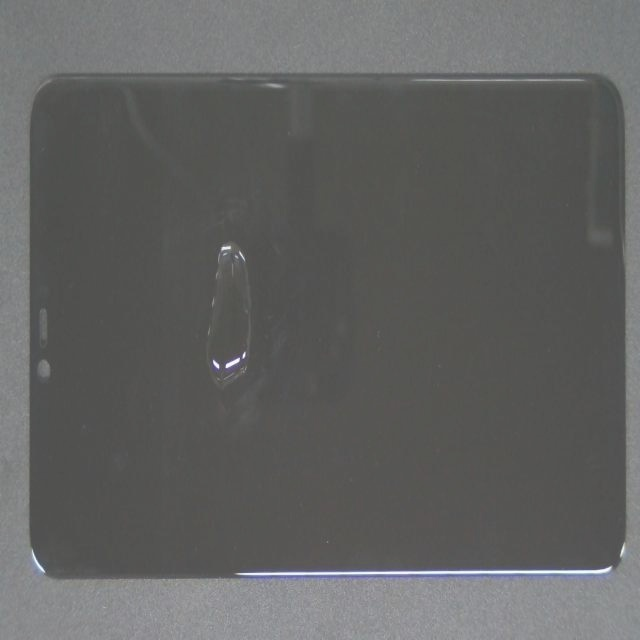oil: (142, 131, 364, 370)
